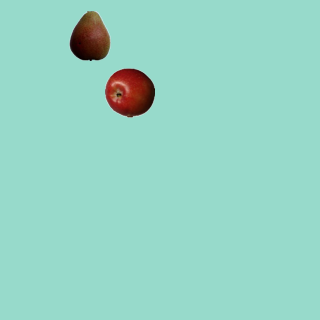Apple Braeburn: (104, 67, 154, 117)
Pear Forelle: (64, 10, 114, 60)
